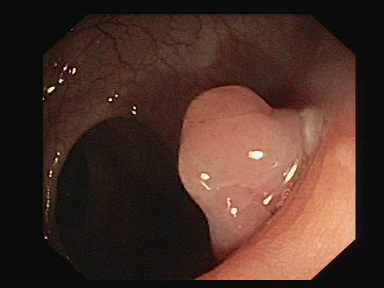polyp: (153, 71, 334, 254)
